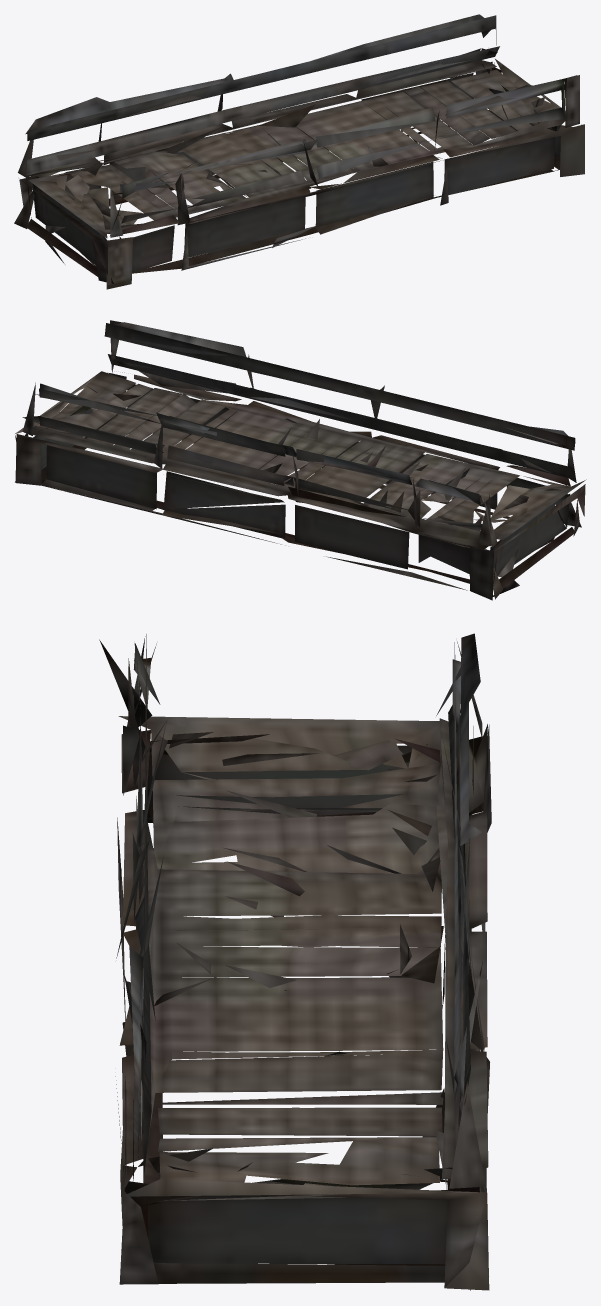
Rendered from jahrmarkt_bruecke_lo.glb.
3 renders of one model, top to bottom at view 1: azimuth 30°, elevation 25°; view 2: azimuth 150°, elevation 25°; view 3: azimuth 270°, elevation 25°, orthographic. The views are drawn at different scales.
Parts seen in each view (by area): view 1: Prop; view 2: Prop; view 3: Prop.
Part boxes in pixels (x1,y1,x2,y2): Prop: [14, 14, 584, 289]; Prop: [15, 320, 586, 600]; Prop: [99, 633, 491, 1290].
Size of the model in its own units: 5.01 by 1.24 by 1.79.
Materials: 1 (1 with a texture image).
